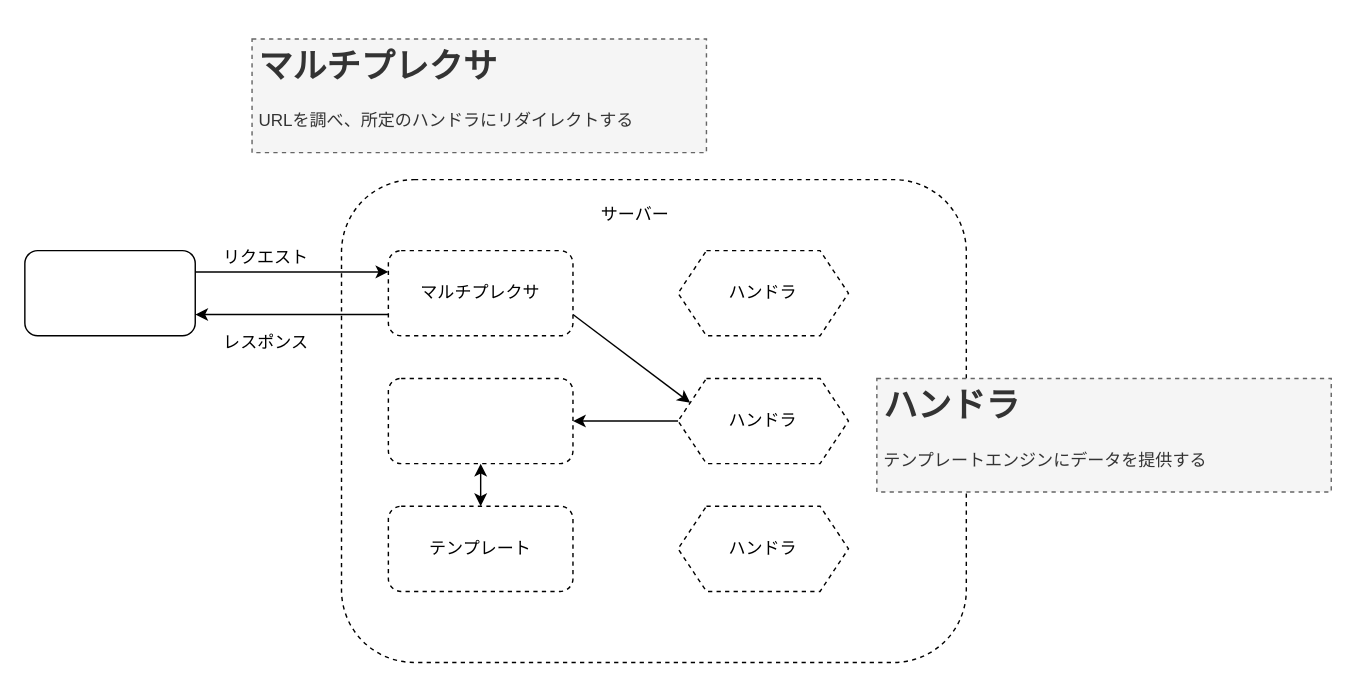
The diagram is 1356 pixels wide and 687 high, and some of its shapes have lost their labels. The shapes that lost their labels are listed below. From the top down, each one's centre as x and y in pixels, then its label:
the point at 109,292: クライアント
the point at 480,420: テンプレート エンジン
